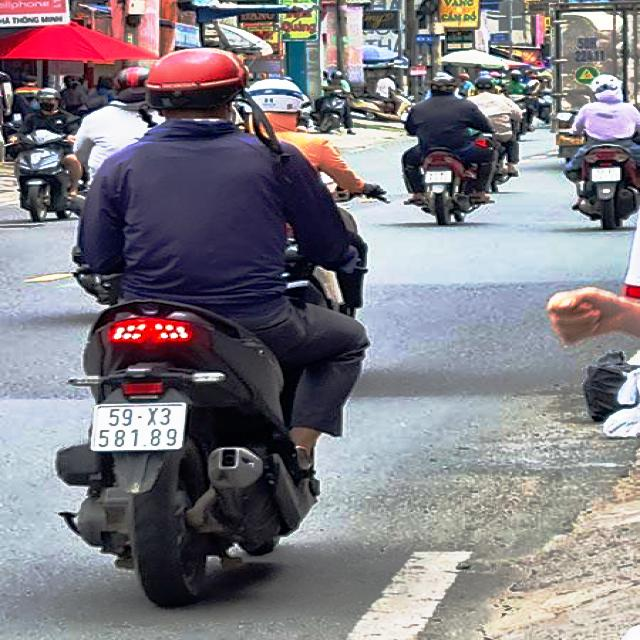license_plate: (91, 403, 191, 452)
